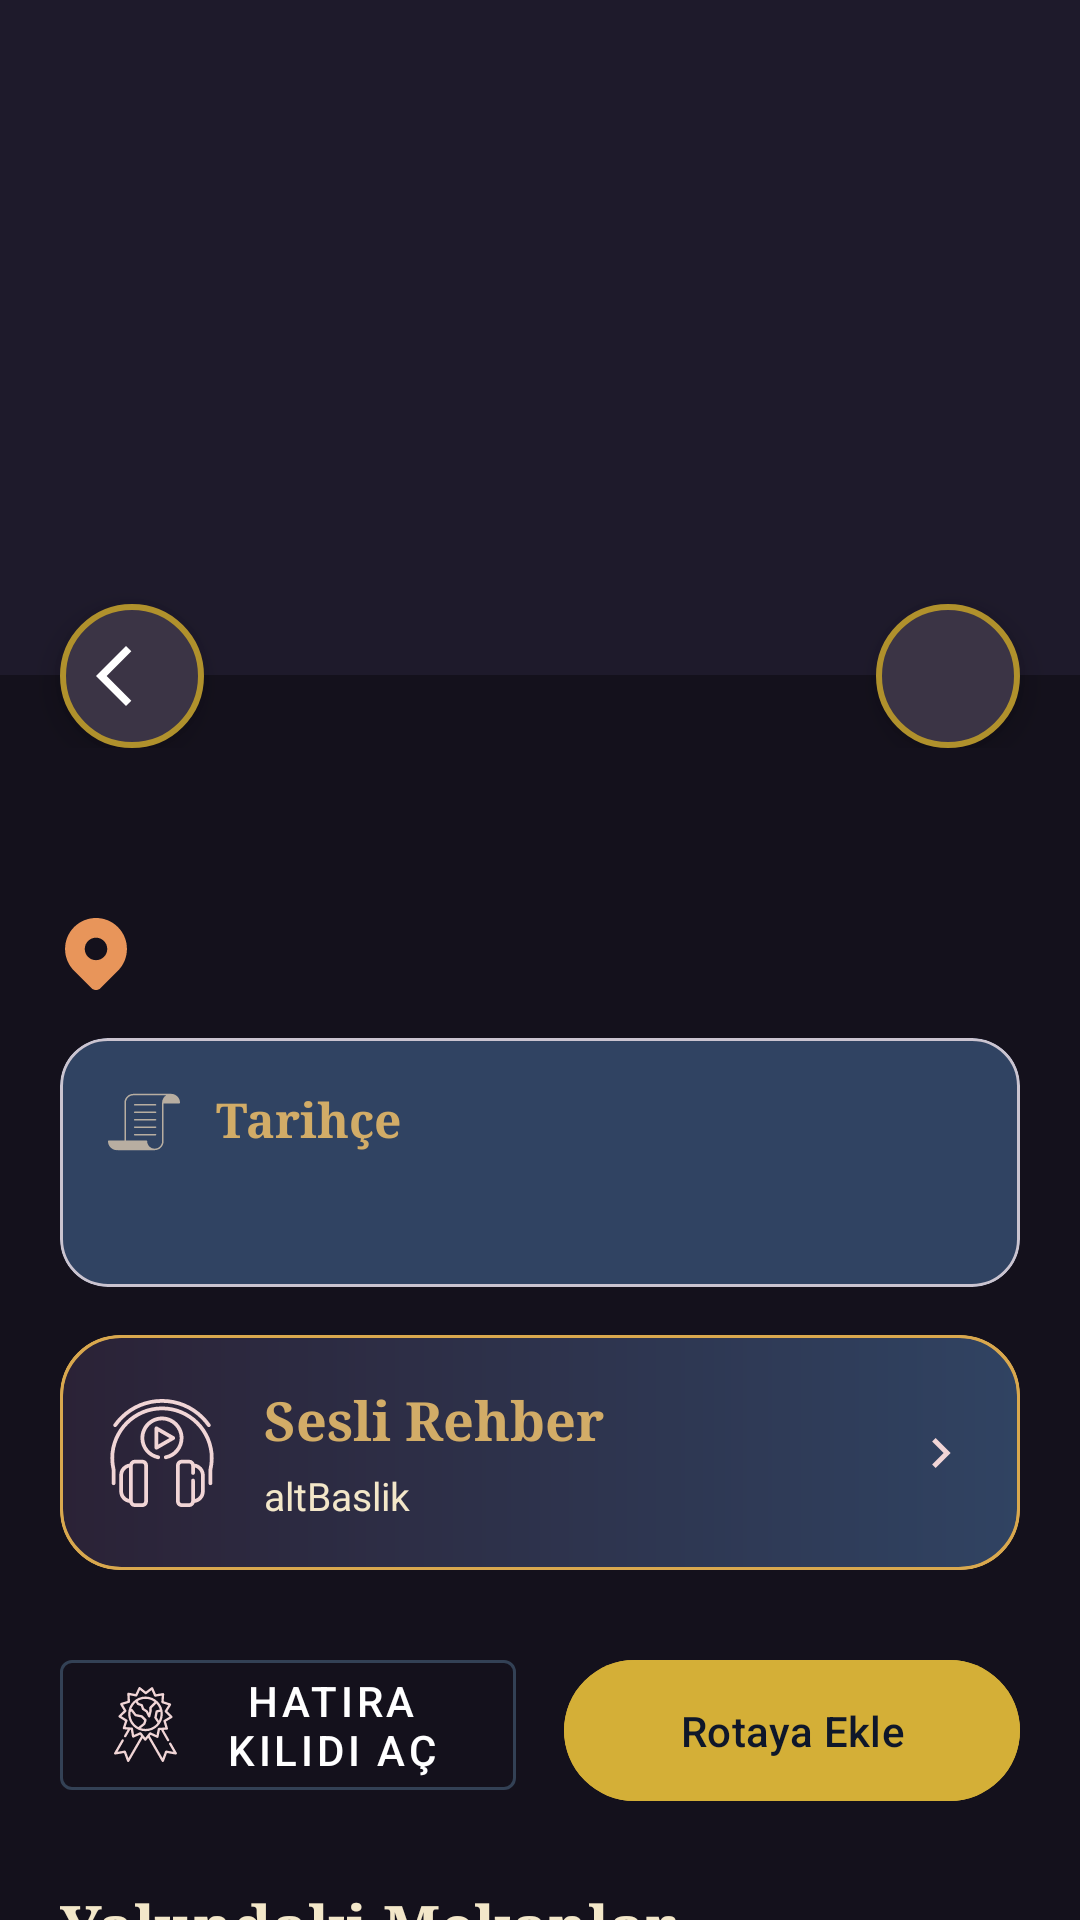

Icon click points for this 1080 x 1920 phone screenshot, format (x=x, y=y):
Geri Tuşu: (x=132, y=676)
headphones: (x=162, y=1453)
right: (x=941, y=1453)
